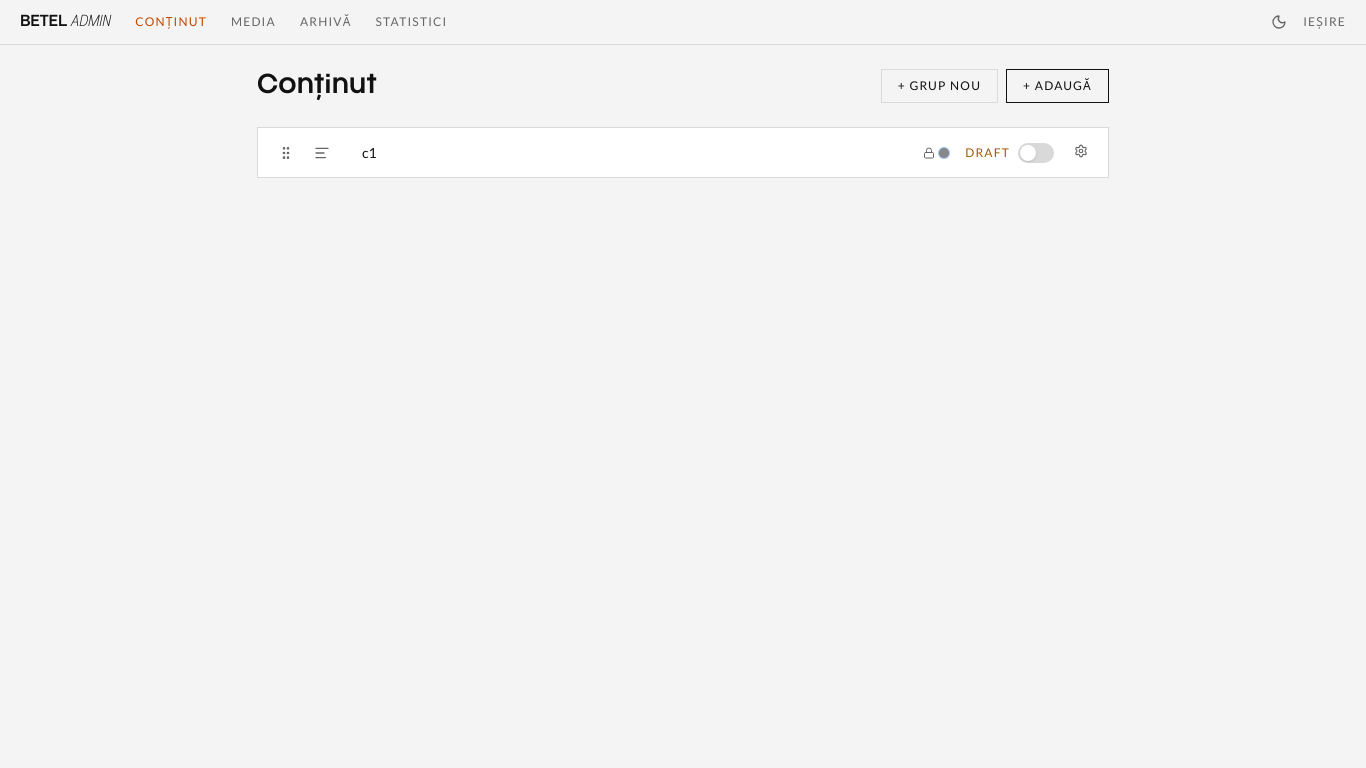
Test case: Toast notifications › shows a success toast after publishing content
This screenshot has width=1366, height=768.
Click the button with test id "item-menu-trigger-c1".
click(1081, 151)  # box [1070,140,1092,162]
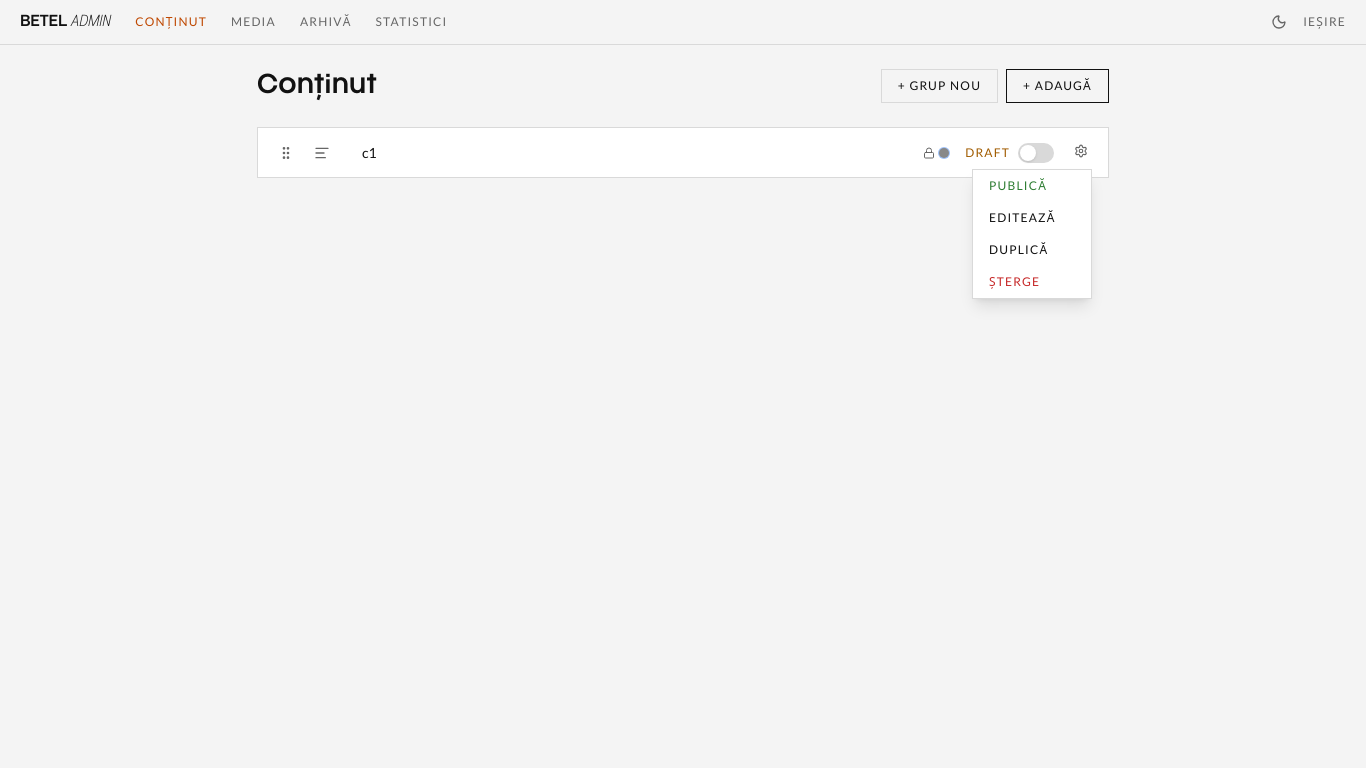
Click the button with test id "item-menu-publish-c1".
click(1032, 186)  # box [973,170,1091,202]
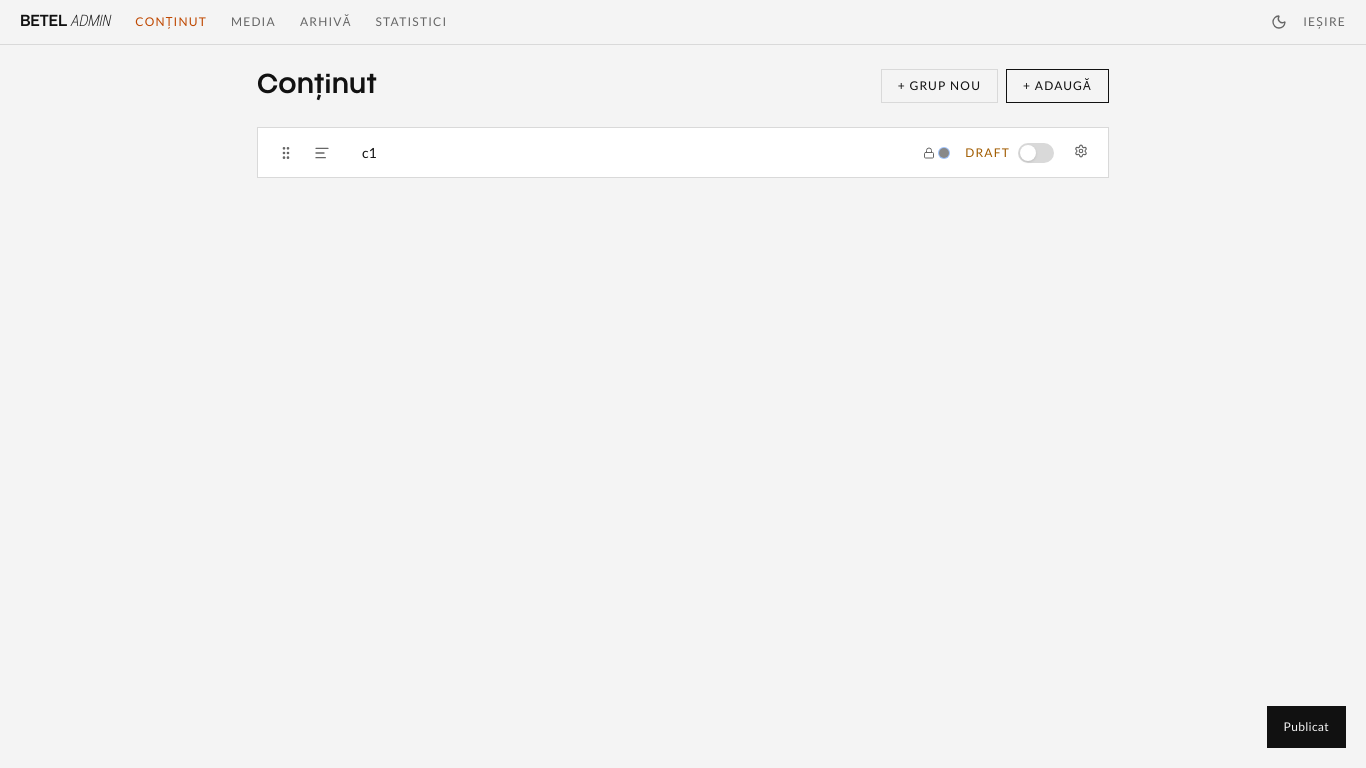
Check: the text "Publicat" is shown, box [1267,706,1346,748]
Check: the text with test id "toast" reads "Publicat", box [1284,719,1329,734]
